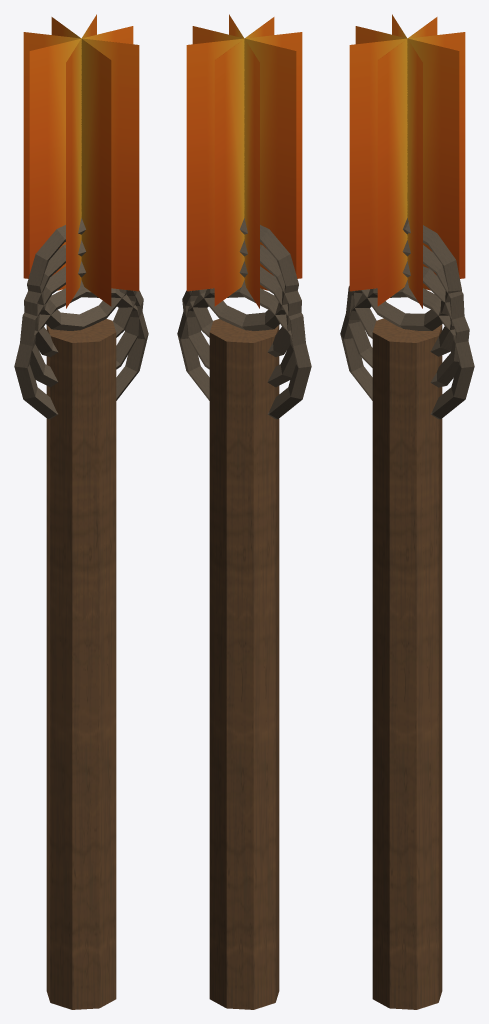
File: pr-009_torch__lit.obj
3 renders of one model, left to right at view 1: azimuth 30°, elevation 25°; view 2: azimuth 150°, elevation 25°; view 3: azimuth 330°, elevation 25°, orthographic.
Parts seen in each view (by area): view 1: pr-009_torch__lit; view 2: pr-009_torch__lit; view 3: pr-009_torch__lit.
Part boxes in pixels (box(x1,y1,x2,y2)): pr-009_torch__lit: box(14, 14, 148, 1009); pr-009_torch__lit: box(177, 14, 311, 1009); pr-009_torch__lit: box(340, 14, 474, 1009).
Bounding box in the file's own units: 0.194 × 1.32 × 0.15.
3 materials, 3 textured.
